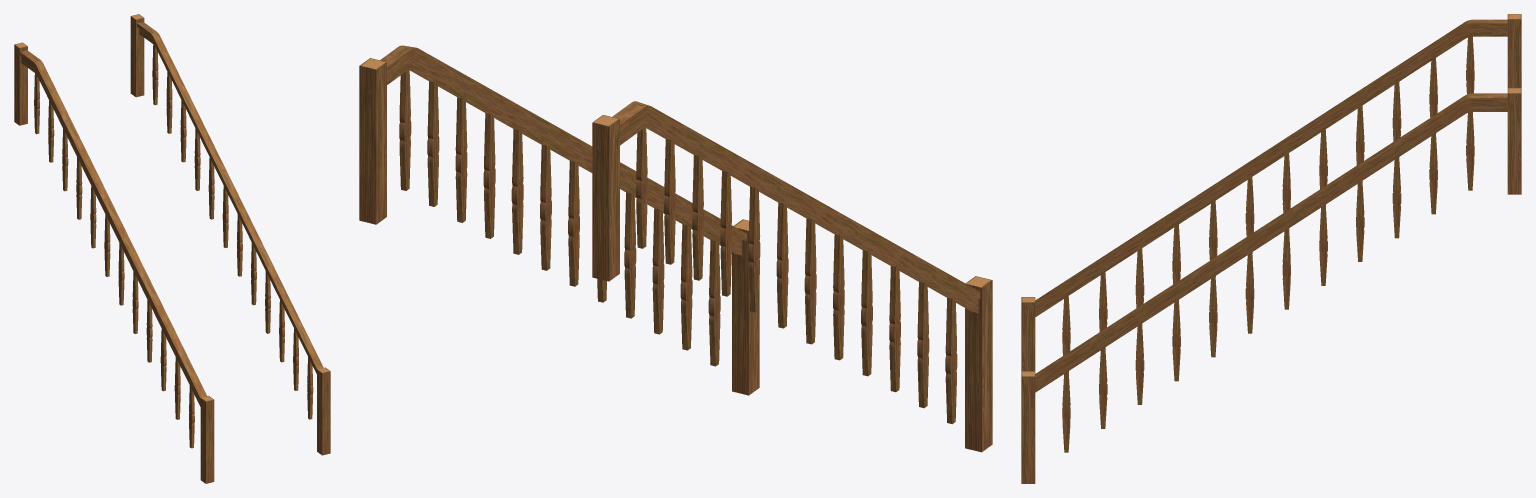
Rendered from Stair_Interior_Rails.gltf.
3 renders of one model, left to right at view 1: azimuth 30°, elevation 25°; view 2: azimuth 150°, elevation 25°; view 3: azimuth 270°, elevation 25°, orthographic. The views are drawn at different scales.
Visible parts, largest first — view 1: Stair_Interior_Rails; view 2: Stair_Interior_Rails; view 3: Stair_Interior_Rails.
Boxes of the visible parts, x1=… form: Stair_Interior_Rails: x1=14, y1=14, x2=330, y2=483; Stair_Interior_Rails: x1=359, y1=45, x2=992, y2=452; Stair_Interior_Rails: x1=1021, y1=14, x2=1521, y2=483.
Size of the model in its own units: 1.72 by 3.93 by 4.56.
1 material, 1 textured.
